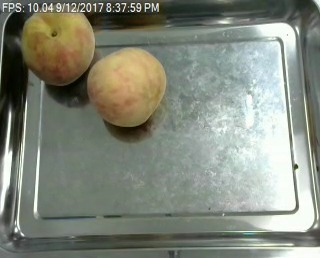Peach: (86, 45, 167, 127), (19, 1, 96, 86)
